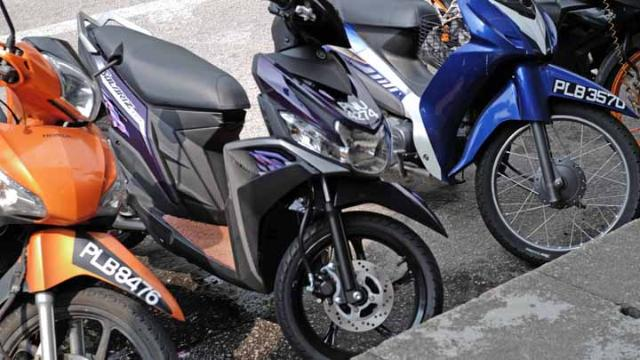License_Plate: (78, 239, 164, 313), (554, 76, 631, 113), (334, 97, 383, 127)
motorcycle: (76, 8, 450, 360), (261, 2, 640, 267), (2, 2, 187, 360)
